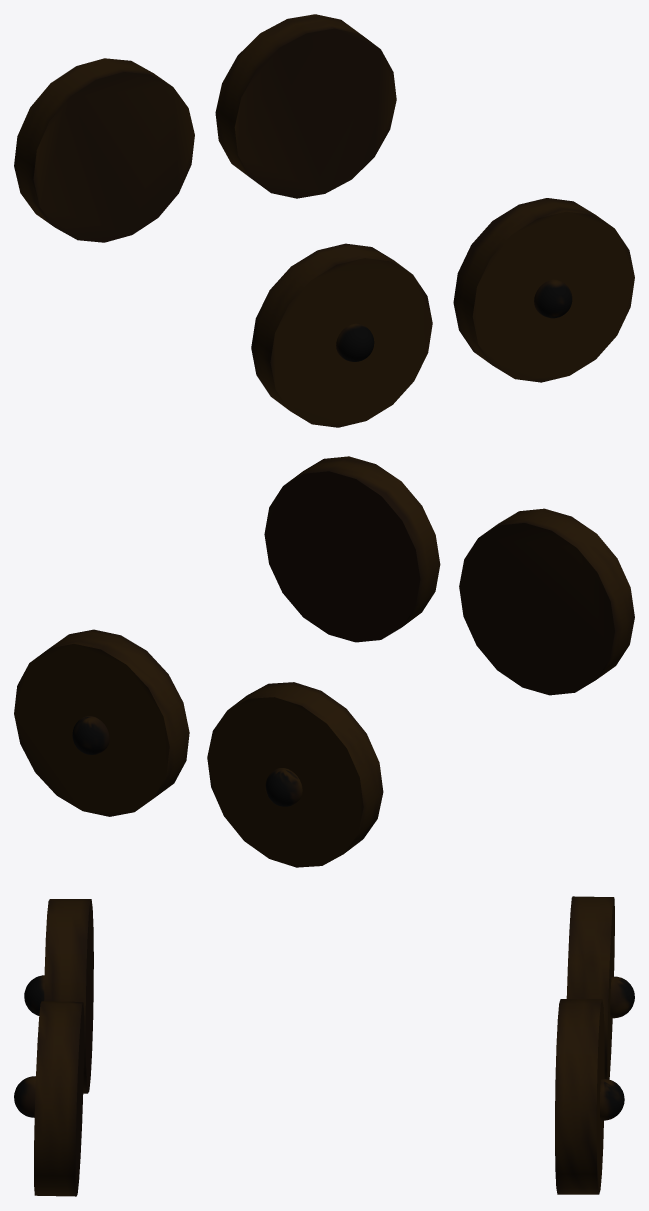
Rendered from Cannon wheels only.fbx.
The picture shows the model from 3 angles, top to bottom: view 1: azimuth 30°, elevation 25°; view 2: azimuth 150°, elevation 25°; view 3: azimuth 270°, elevation 25°; orthographic projection. The views are drawn at different scales.
Visible parts, largest first — view 1: Top Level Cannon 3; view 2: Top Level Cannon 3; view 3: Top Level Cannon 3.
Part boxes in pixels (box(x1,y1,x2,y2)): Top Level Cannon 3: box(14, 14, 634, 427); Top Level Cannon 3: box(14, 456, 634, 867); Top Level Cannon 3: box(14, 896, 634, 1196).
Bounding box in the file's own units: 130 × 58.44 × 180.
